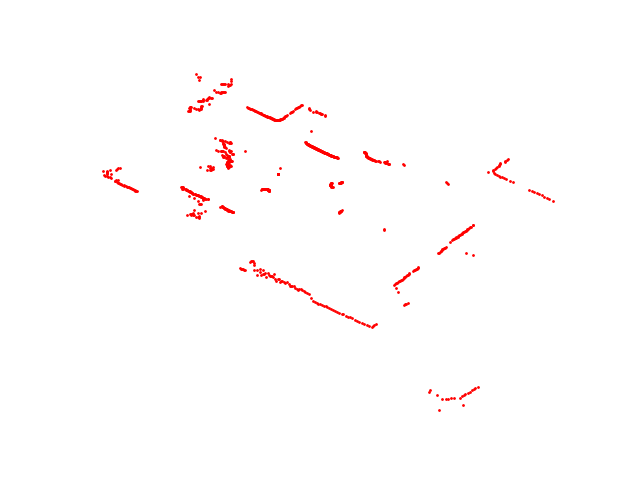person: (327, 178, 346, 191)
